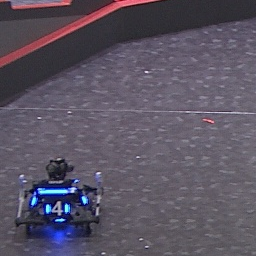Blue: (43, 201, 73, 216)
Robot: (13, 158, 105, 236)
